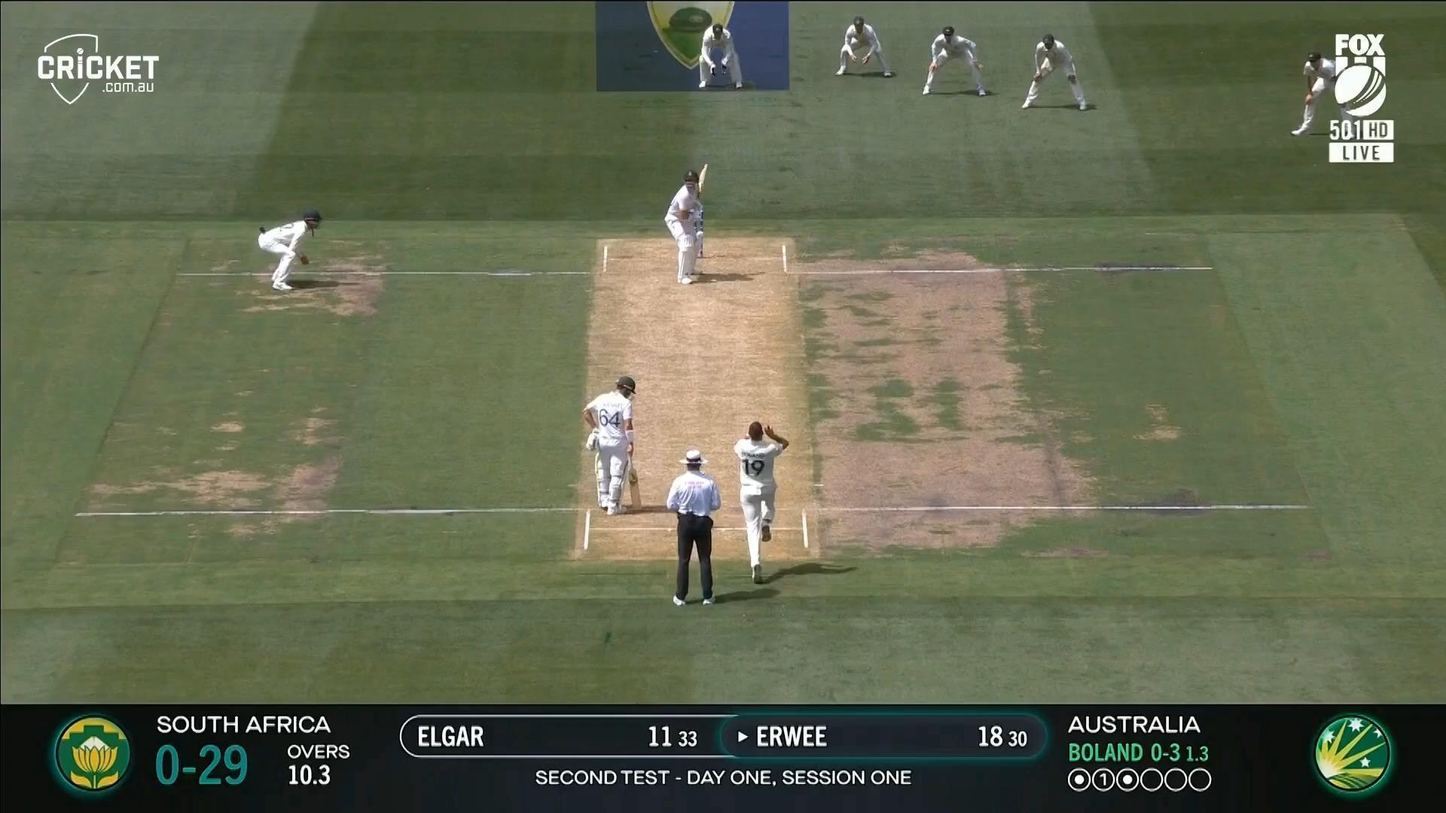BM 1: (664, 163, 709, 285)
BO: (733, 419, 790, 584)
